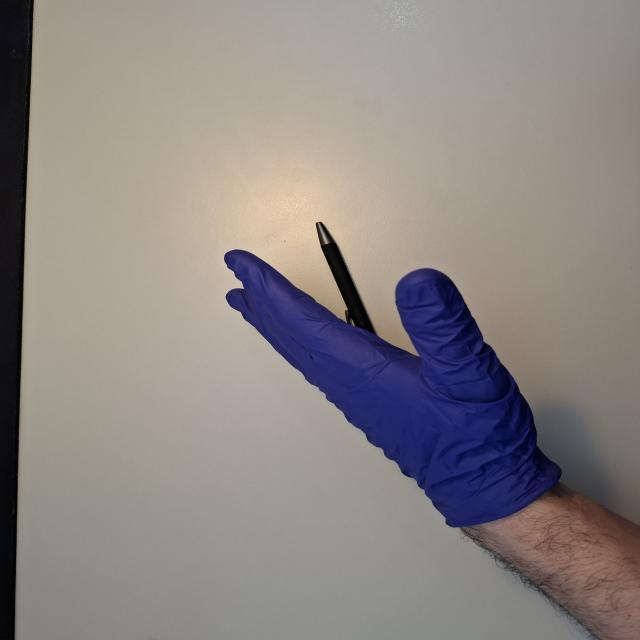glove_on: (222, 246, 556, 530)
